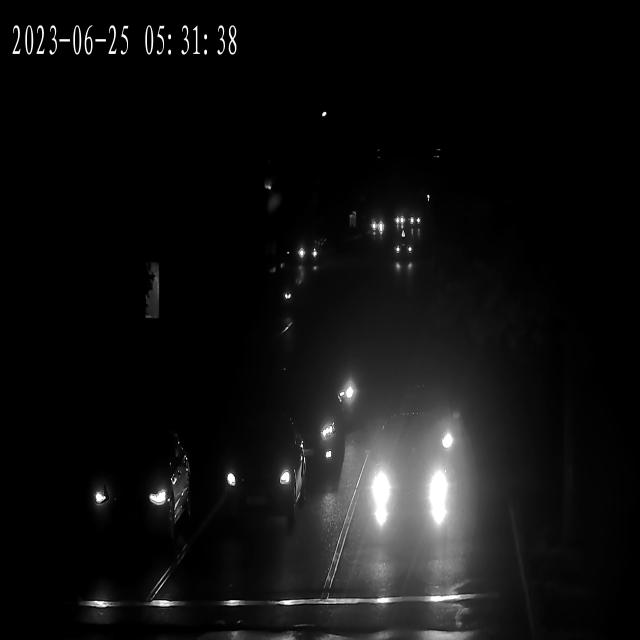Car: (89, 426, 189, 544), (216, 411, 307, 522), (365, 440, 450, 550), (274, 384, 341, 496), (402, 390, 462, 483), (312, 362, 368, 430), (296, 228, 323, 272), (393, 237, 412, 264), (368, 208, 384, 238), (397, 202, 408, 230), (408, 214, 422, 232)
